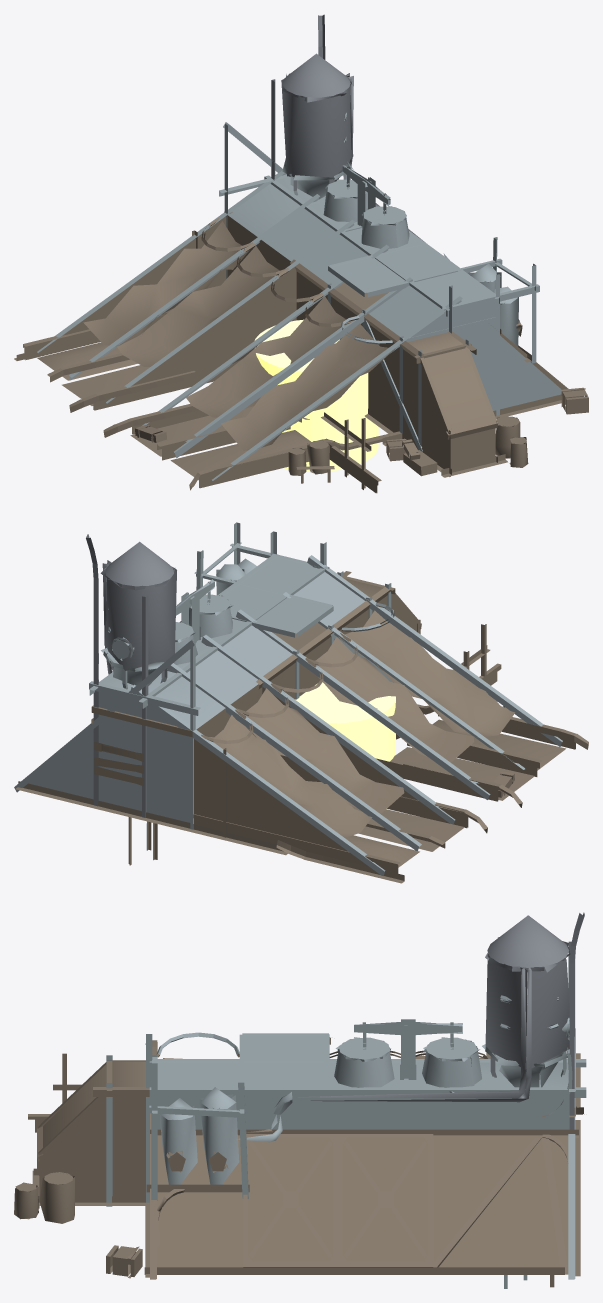
The model's file is hothouse.glb.
3 views of the same model, one above another, from view 1: azimuth 30°, elevation 25°; view 2: azimuth 150°, elevation 25°; view 3: azimuth 270°, elevation 25° (orthographic). The views are drawn at different scales.
Parts seen in each view (by area): view 1: hothouse_Building; view 2: hothouse_Building; view 3: hothouse_Building.
Boxes of the visible parts, left/top/right/bottom form: hothouse_Building: left=14, top=14, right=588, bottom=493; hothouse_Building: left=14, top=522, right=588, bottom=883; hothouse_Building: left=14, top=912, right=586, bottom=1288.
Size of the model in its own units: 14.67 by 11.51 by 15.3.
